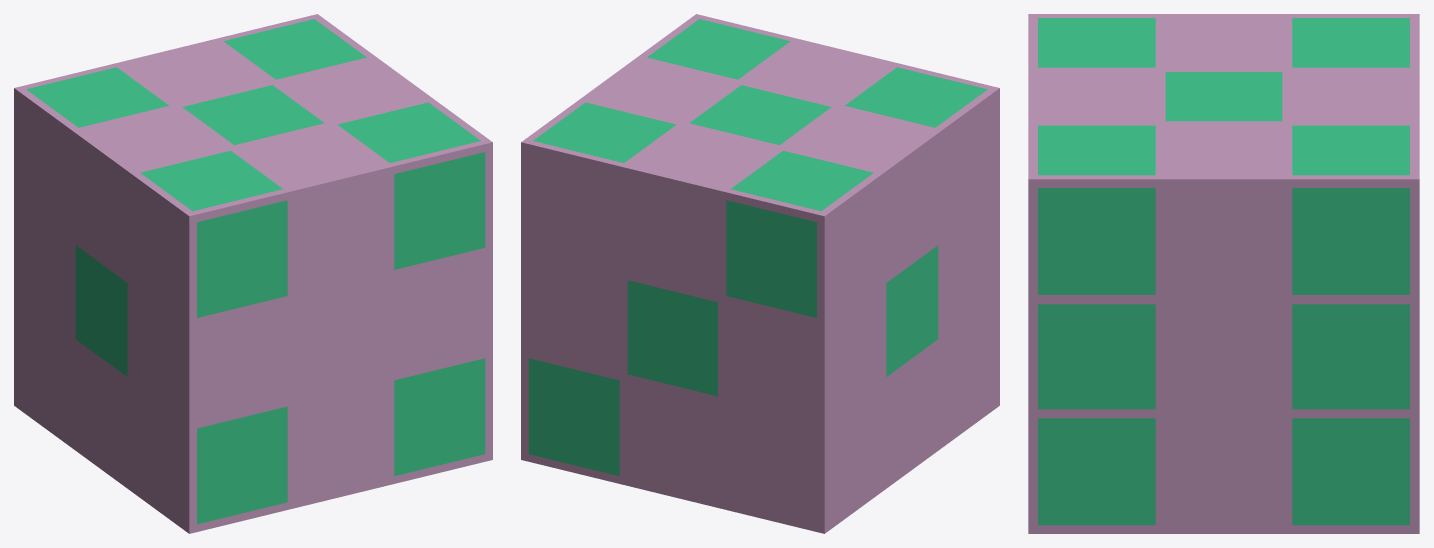
The model's file is Dice.glb.
3 renders of one model, left to right at view 1: azimuth 30°, elevation 25°; view 2: azimuth 150°, elevation 25°; view 3: azimuth 270°, elevation 25°, orthographic. The views are drawn at different scales.
Visible parts, largest first — view 1: Cube; view 2: Cube; view 3: Cube.
Boxes of the visible parts, box(x1,y1,x2,y2) form: Cube: box(14, 14, 492, 533); Cube: box(521, 14, 999, 533); Cube: box(1028, 14, 1419, 533).
Size of the model in its own units: 1 by 1 by 1.
